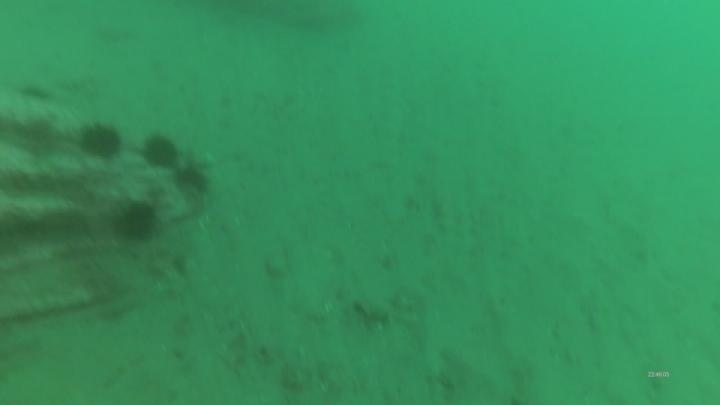echinus: (111, 199, 160, 244), (77, 120, 125, 162), (140, 132, 182, 172), (171, 161, 212, 197)
